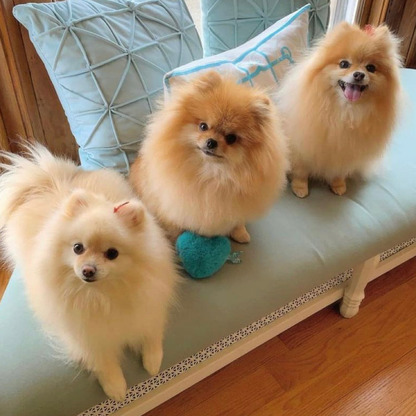Pomeranian: (7, 169, 161, 399), (143, 77, 287, 245), (291, 24, 405, 194)
